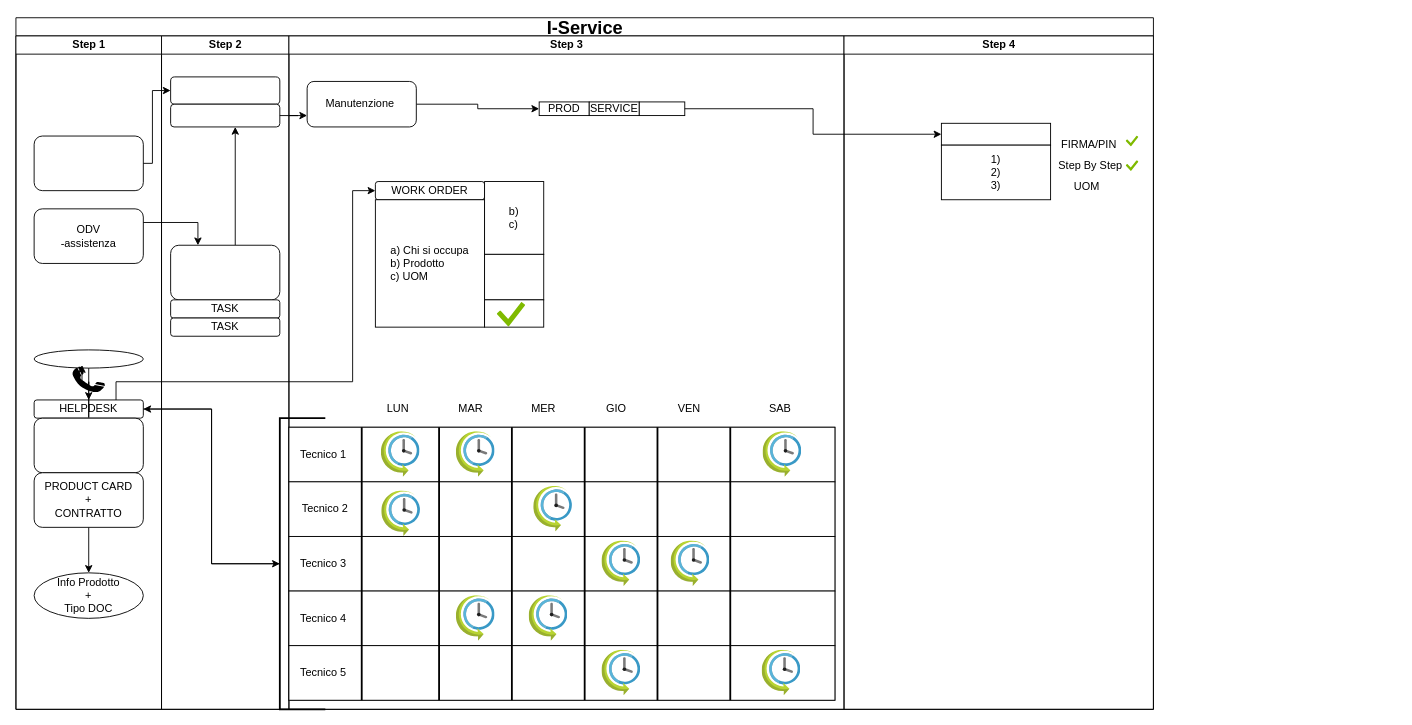
Image size: 1412x725. Some labels were removed from this diagram. Here are the shapes that lost their labels. From the top down, the centre of each, then its label:
At point 225,90: "Product Card (prodotto)".
At point 661,108: "JOB".
At point 225,115: "CONTRATTO".
At point 995,133: "JOB STANDARD".
At point 88,163: "ODV -prodotto".
At point 225,272: "CONTRATTO (tipo di Assistenza)".
At point 514,276: "-FIRMA -DATA -ORE".
At point 88,358: "REQUEST".
At point 88,445: "RICERCA -... -... -...".
